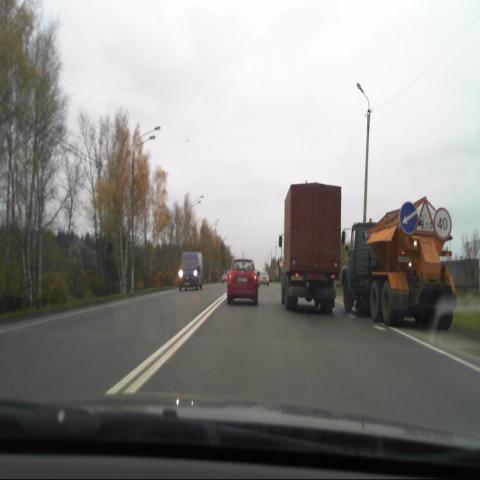1_18: (414, 199, 434, 236)
